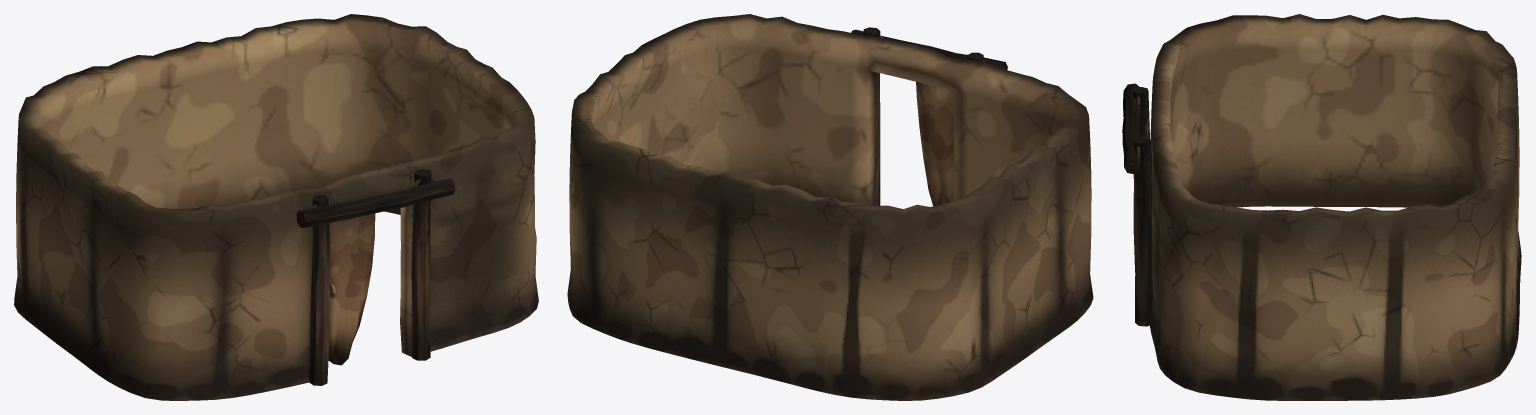
Rendered from family_hall_walls.gltf.
3 views of the same model, side by side, from view 1: azimuth 30°, elevation 25°; view 2: azimuth 150°, elevation 25°; view 3: azimuth 270°, elevation 25° (orthographic).
Visible parts, largest first — view 1: family_hall_walls; view 2: family_hall_walls; view 3: family_hall_walls.
Part boxes in pixels (x1,y1,x2,y2): family_hall_walls: (14, 14, 538, 400); family_hall_walls: (567, 14, 1093, 400); family_hall_walls: (1122, 14, 1521, 400).
Size of the model in its own units: 3.78 by 1.62 by 3.13.
Materials: 4 (4 with a texture image).
